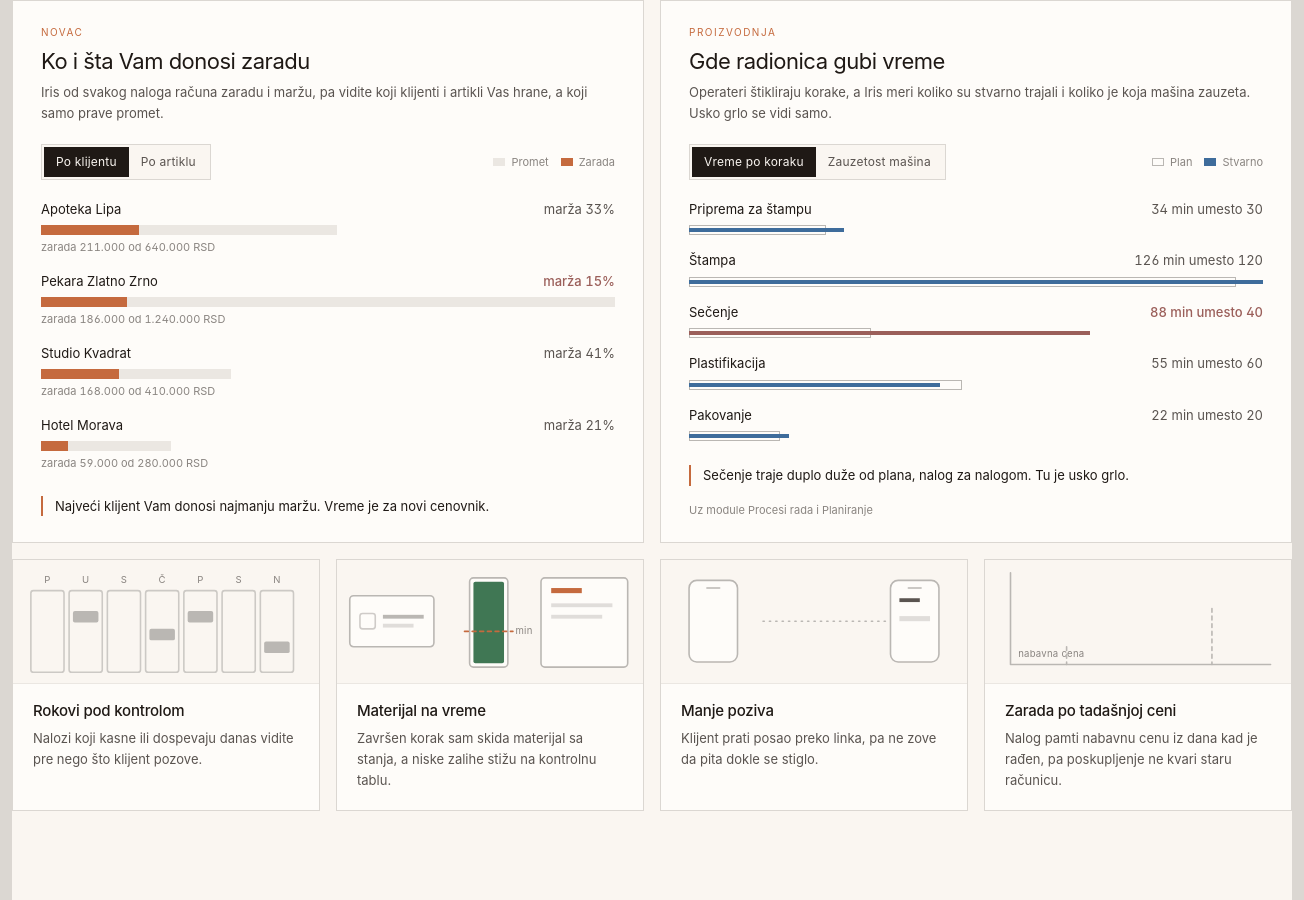
Scenario: ValueShowcase › shows step times against the plan, then machine load against the shift
Check: the text "88 min umesto 40" is shown, box [1150,303,1263,322]
Click the button "Zauzetost mašina". click: click(879, 162)
box: [816,147,943,177]
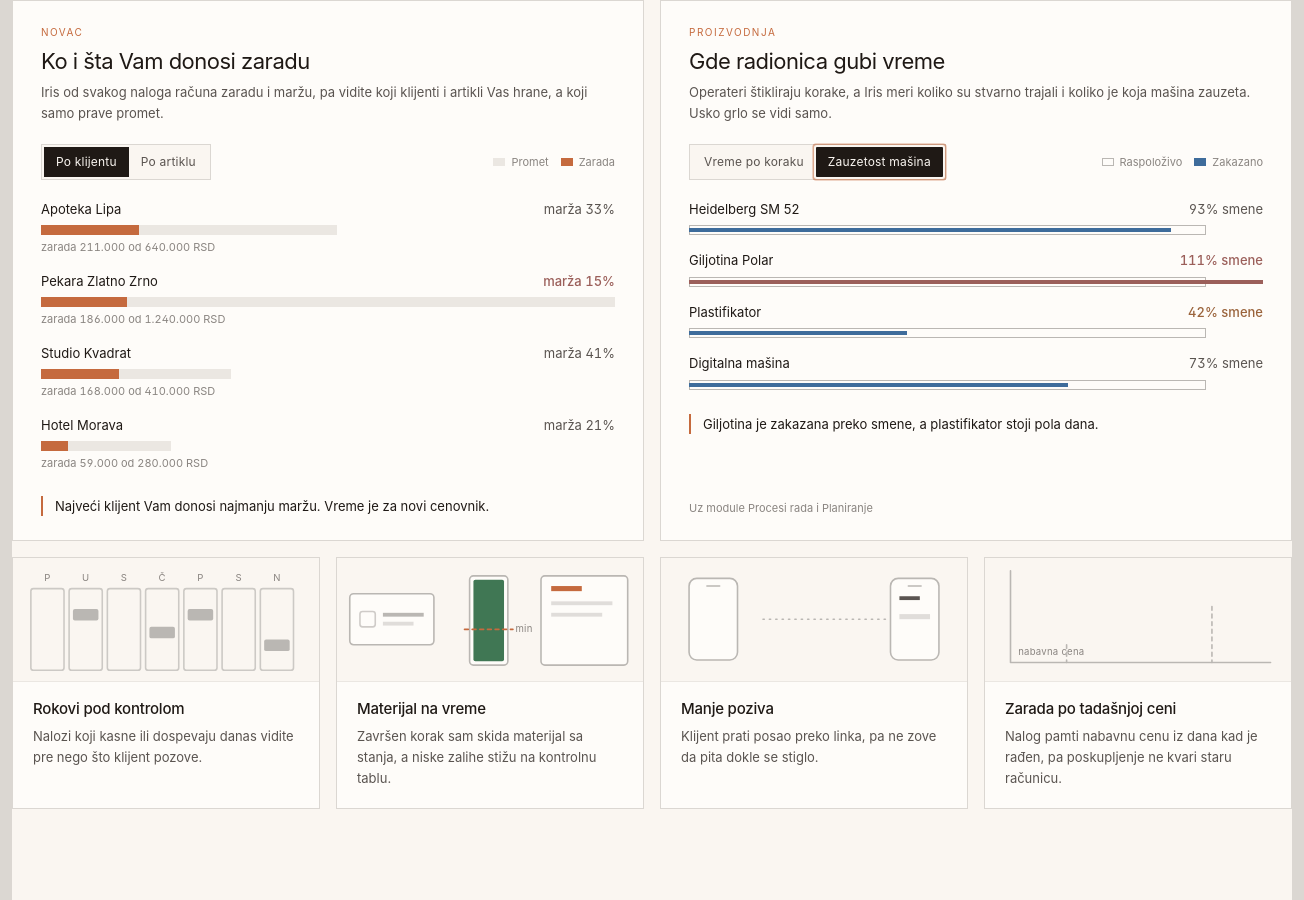
Check: the text "111% smene" is shown, box [1180,252,1263,271]
Check: the text "Giljotina je zakazana preko smene" is shown, box [703,416,1098,432]
